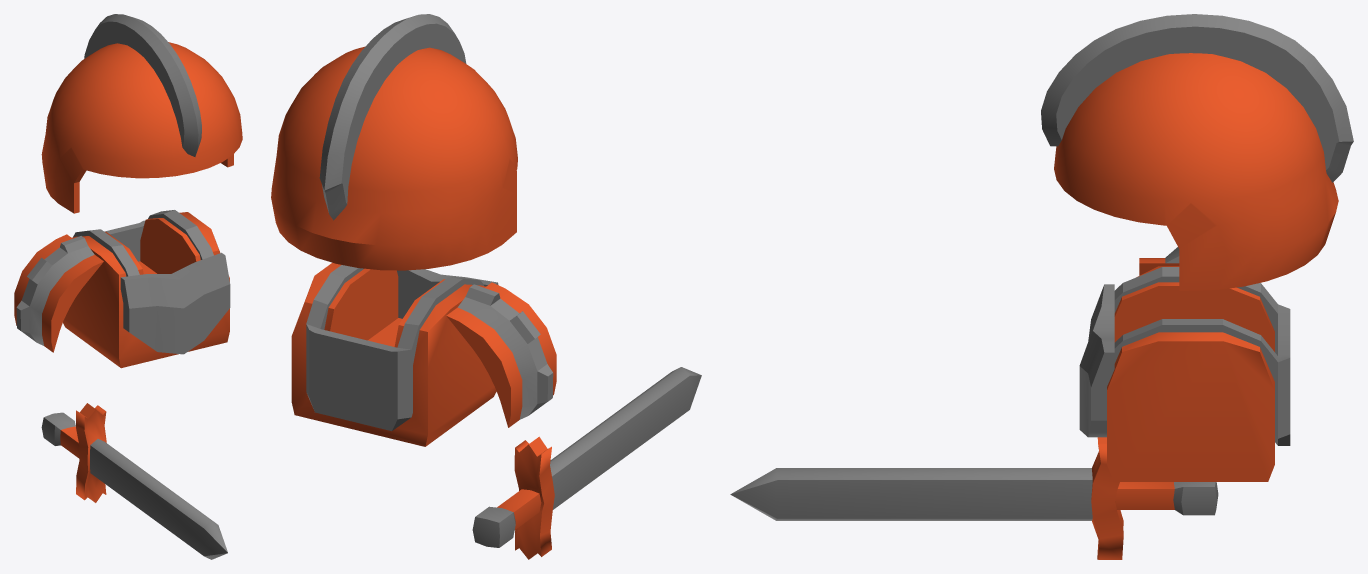
The model's file is Armor2.fbx.
The picture shows the model from 3 angles, left to right: view 1: azimuth 30°, elevation 25°; view 2: azimuth 150°, elevation 25°; view 3: azimuth 270°, elevation 25°; orthographic projection. The views are drawn at different scales.
Visible parts, largest first — view 1: Sphere, Cube, Cube.002, Cube.001; view 2: Sphere, Cube, Cube.002, Cube.001; view 3: Sphere, Cube, Cube.002.
Part boxes in pixels (x1,y1,x2,y2): Sphere: (41, 14, 242, 213); Cube: (63, 210, 230, 368); Cube.002: (41, 403, 227, 559); Cube.001: (14, 234, 103, 352); Sphere: (271, 14, 517, 270); Cube: (291, 262, 498, 446); Cube.002: (472, 367, 701, 559); Cube.001: (446, 282, 556, 427); Sphere: (1041, 14, 1353, 290); Cube: (1079, 266, 1290, 481); Cube.002: (730, 437, 1218, 559).
Size of the model in its own units: 72.64 by 143 by 134.
